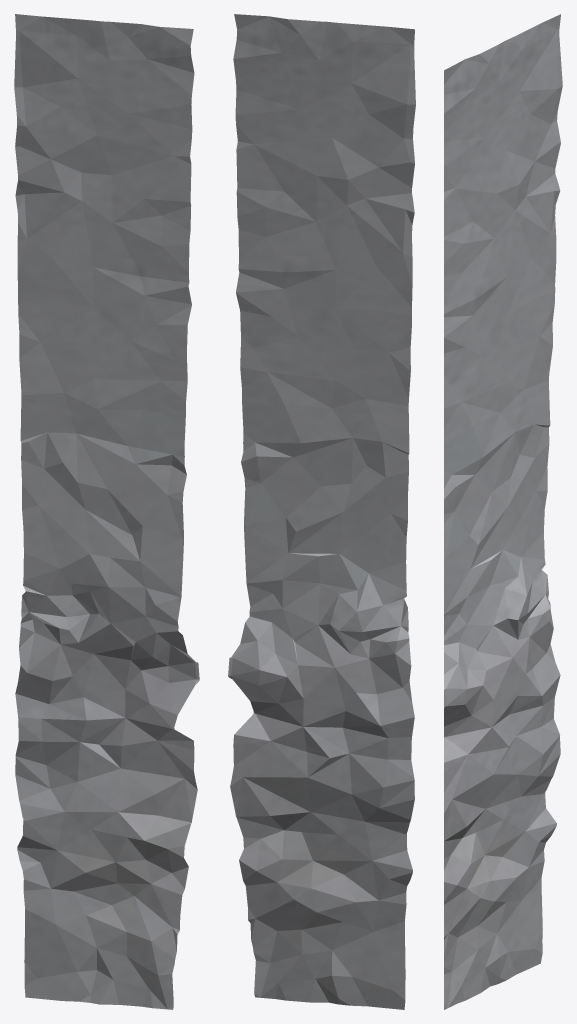
The picture shows the model from 3 angles, left to right: view 1: azimuth 30°, elevation 25°; view 2: azimuth 210°, elevation 25°; view 3: azimuth 270°, elevation 25°; orthographic projection. The views are drawn at different scales.
Bounding box in the file's own units: 0.1119 × 0.8374 × 0.0949.
1 material, 1 textured.
